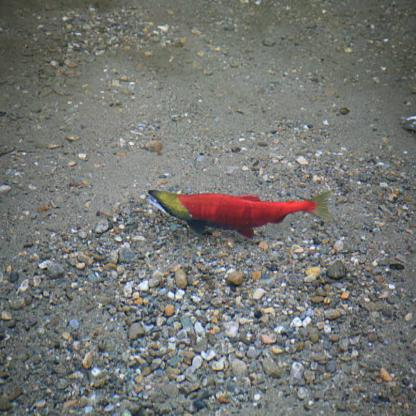sockeye: (147, 176, 326, 245)
